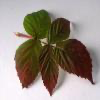Raspberry leaf: (53, 38, 95, 85), (14, 38, 44, 90), (38, 45, 59, 96), (23, 8, 51, 39), (47, 17, 71, 45)
